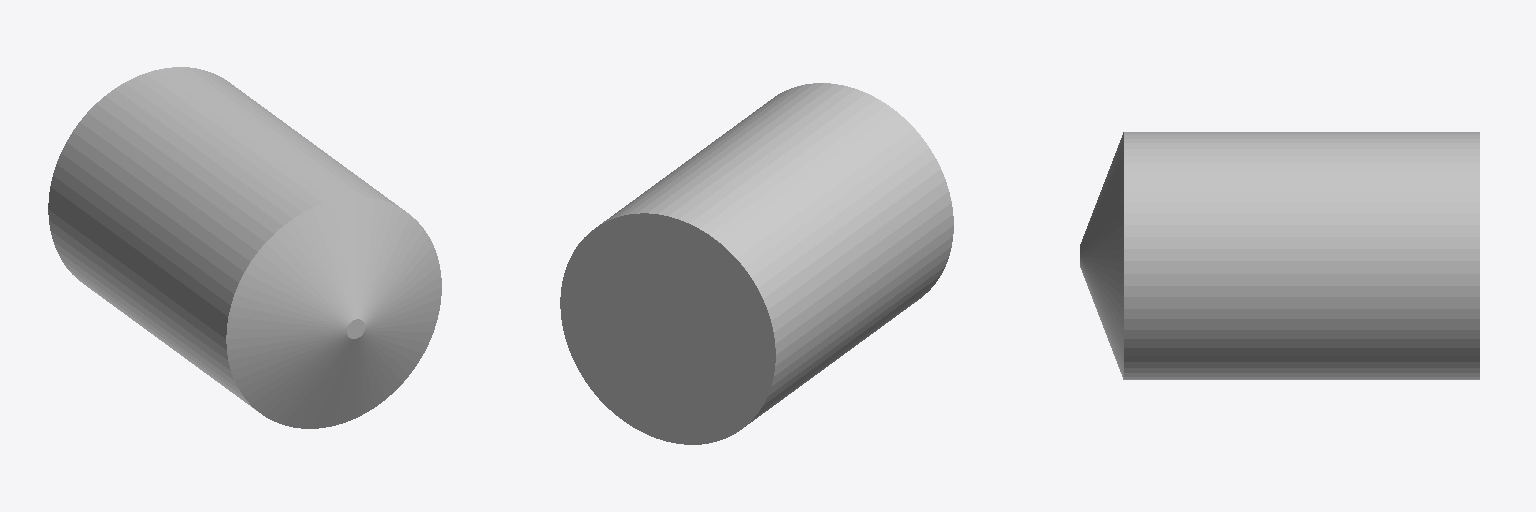
Rendered from Candle2.obj.
The picture shows the model from 3 angles: view 1: azimuth 30°, elevation 25°; view 2: azimuth 150°, elevation 25°; view 3: azimuth 270°, elevation 25°; orthographic projection.
Visible parts, largest first — view 1: Candle2_Cylinder.002; view 2: Candle2_Cylinder.002; view 3: Candle2_Cylinder.002.
Boxes of the visible parts, x1=… form: Candle2_Cylinder.002: x1=48, y1=67, x2=441, y2=428; Candle2_Cylinder.002: x1=560, y1=83, x2=953, y2=444; Candle2_Cylinder.002: x1=1080, y1=132, x2=1479, y2=379.
Bounding box in the file's own units: 0.1829 × 0.1829 × 0.2937.